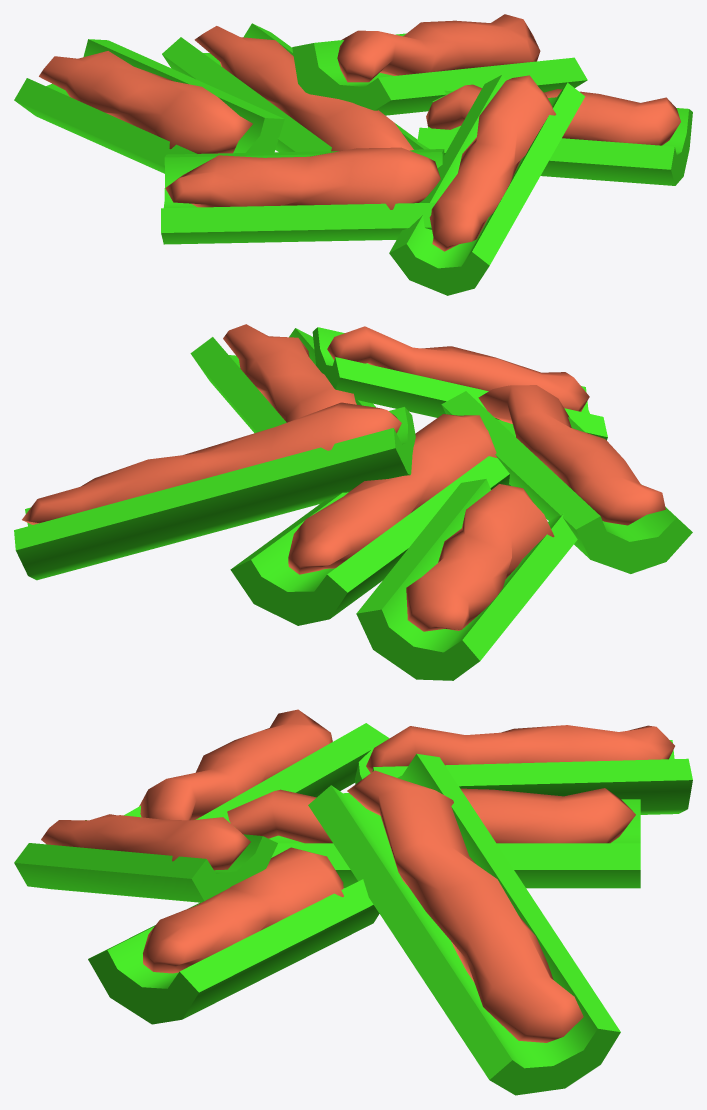
Rendered from SM_CeleriCheezWhiz.FBX.
3 renders of one model, top to bottom at view 1: azimuth 30°, elevation 25°; view 2: azimuth 150°, elevation 25°; view 3: azimuth 270°, elevation 25°, orthographic. The views are drawn at different scales.
Parts seen in each view (by area): view 1: SM_CeleriCheezWhiz; view 2: SM_CeleriCheezWhiz; view 3: SM_CeleriCheezWhiz.
Boxes of the visible parts, x1,y1,x2,y2 form: SM_CeleriCheezWhiz: (14, 14, 692, 295); SM_CeleriCheezWhiz: (14, 324, 692, 680); SM_CeleriCheezWhiz: (14, 709, 692, 1095).
Size of the model in its own units: 14.88 by 4.39 by 14.6.
